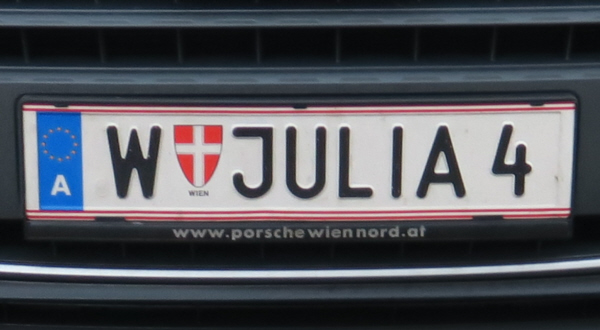license_plate: (21, 102, 575, 220)
